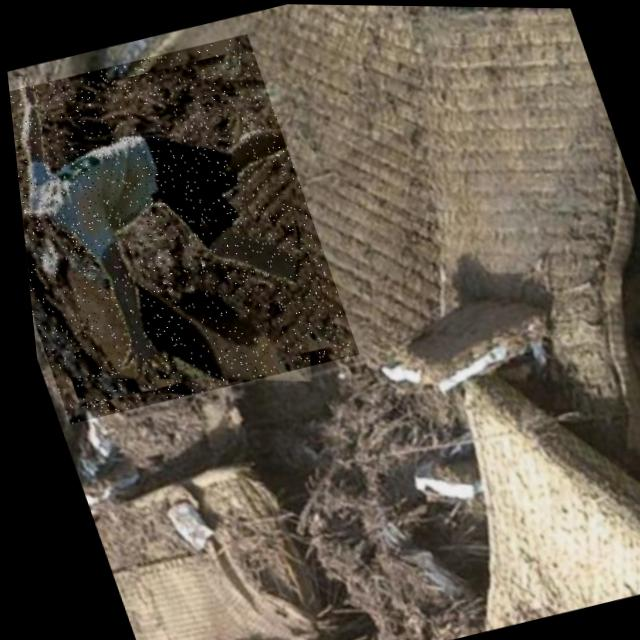Person in Rubble: (2, 29, 357, 426)
